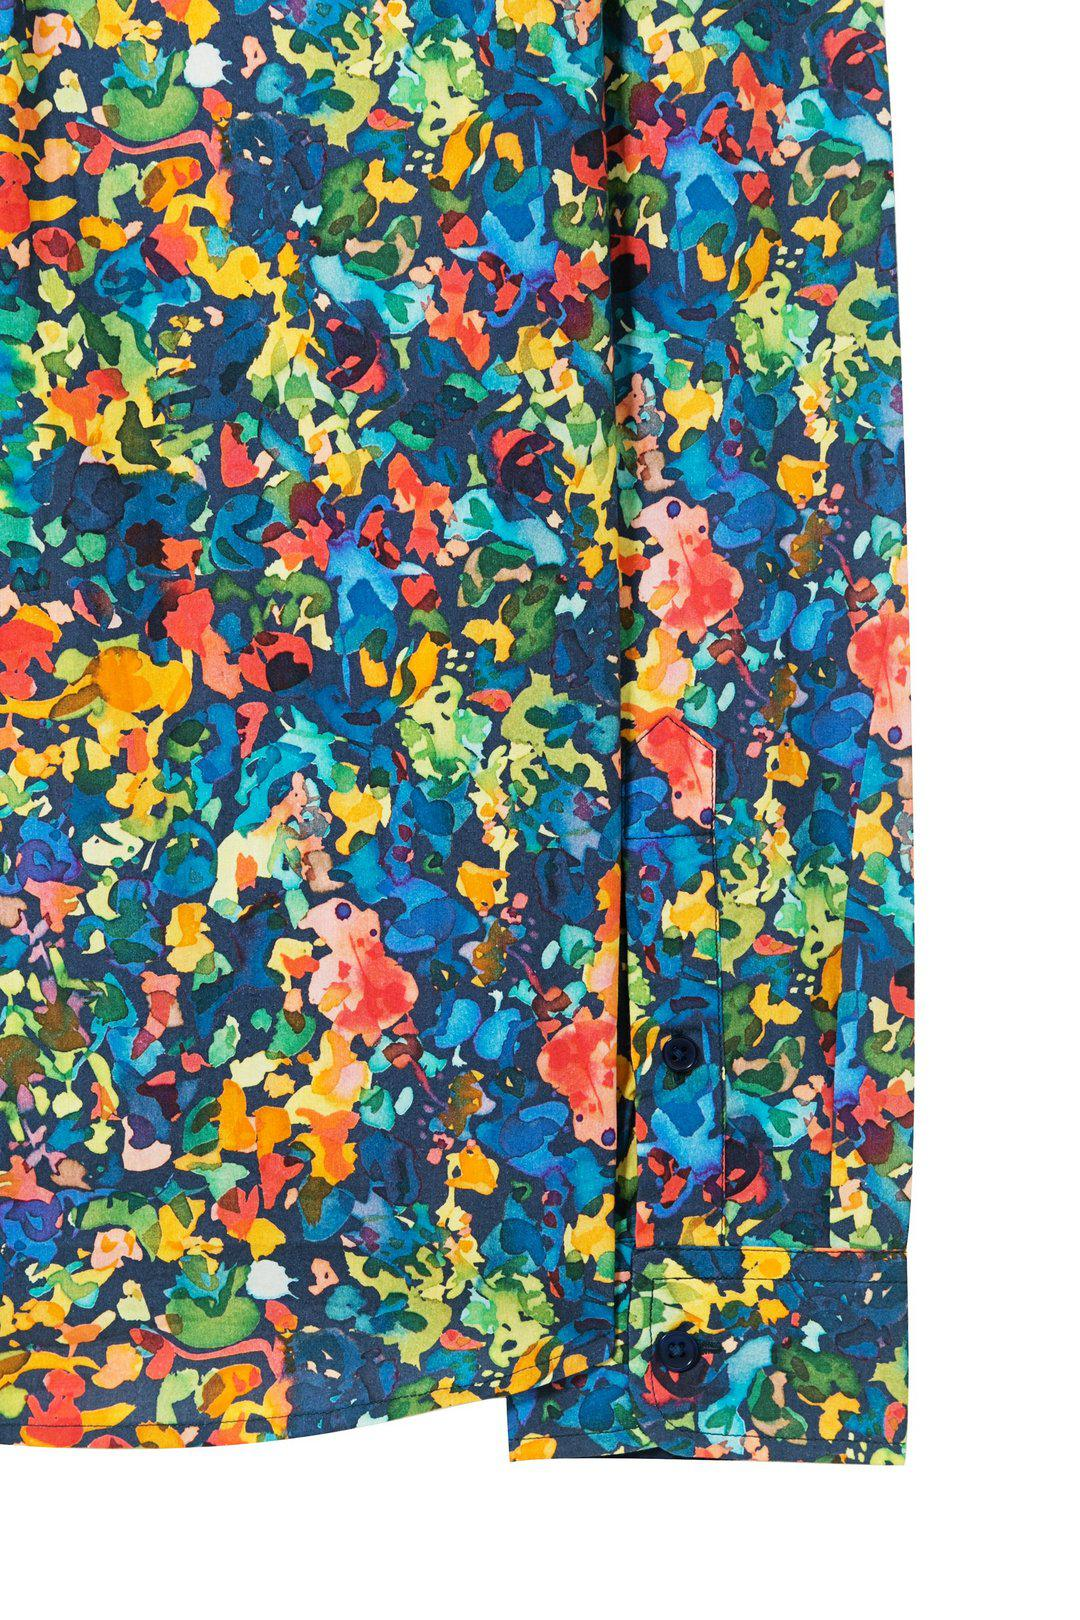teeshirt: (1, 4, 931, 1490)
